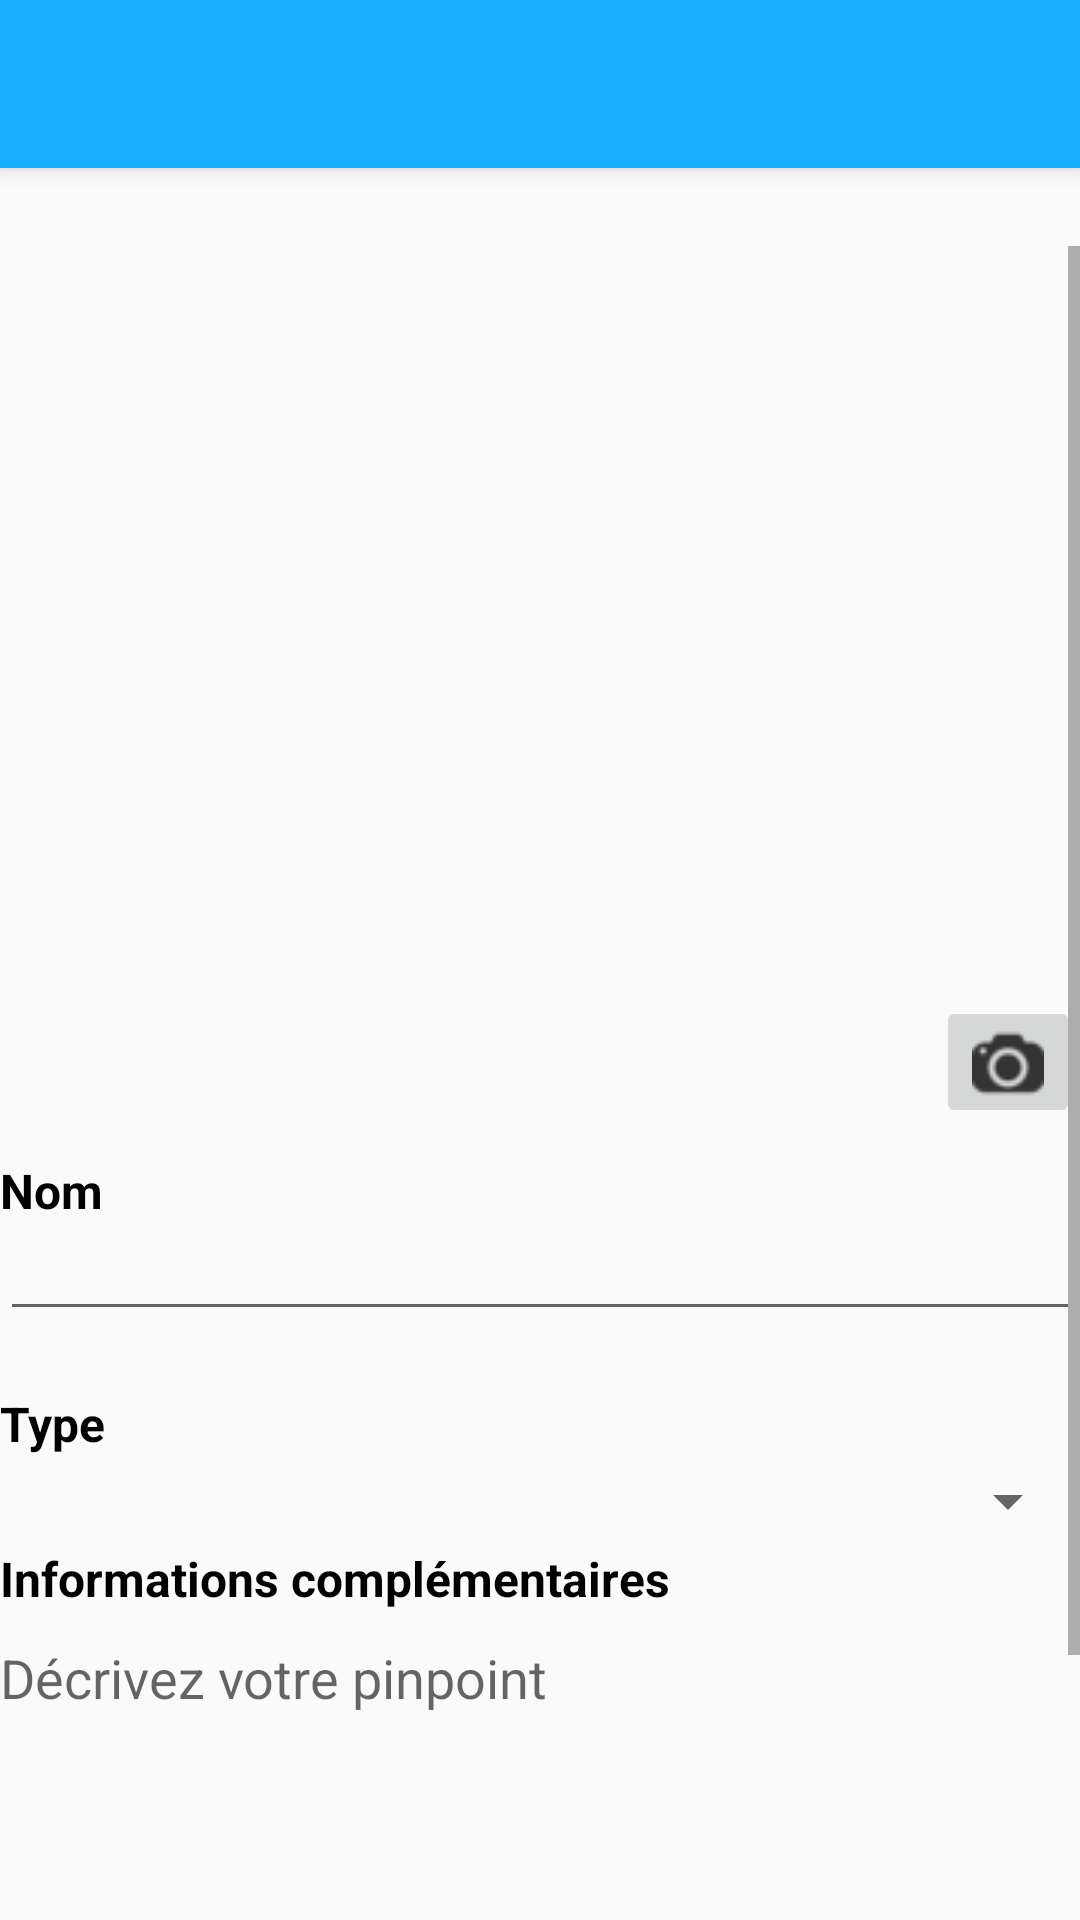

Named icons in this screenshot (1080x1920) and their bounding boxes, (x1, y1, x2, y2):
take picture: (948, 996, 1080, 1128)
